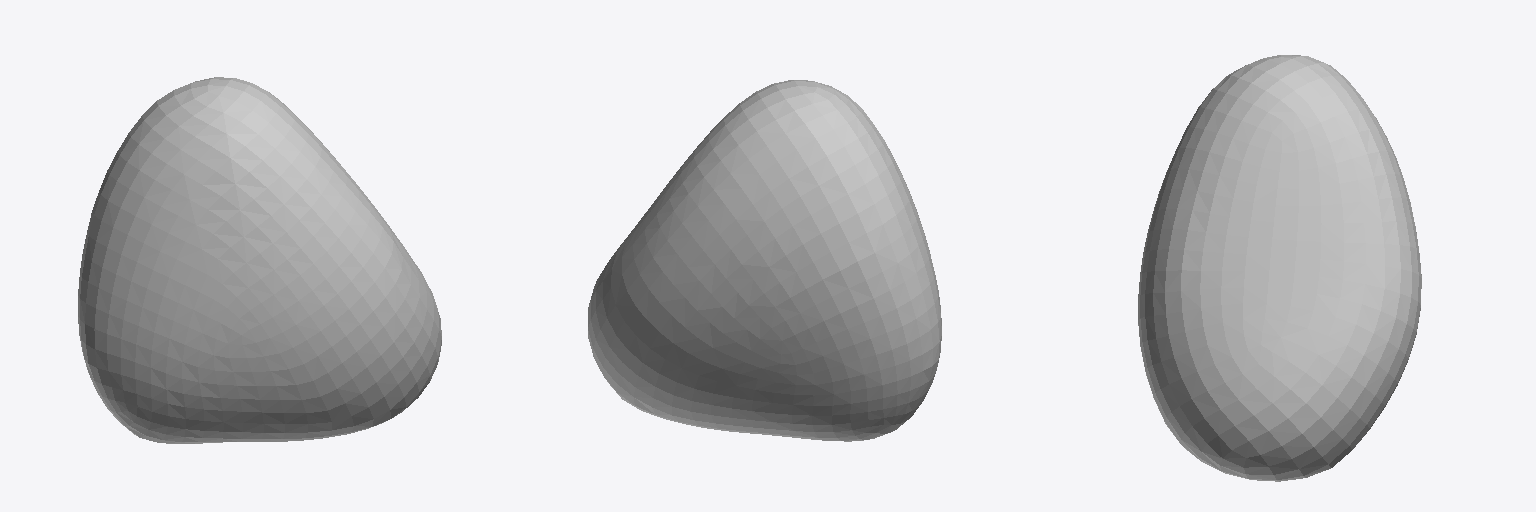
File: Rock-6.obj
3 renders of one model, left to right at view 1: azimuth 30°, elevation 25°; view 2: azimuth 150°, elevation 25°; view 3: azimuth 270°, elevation 25°, orthographic.
Visible parts, largest first — view 1: Group1; view 2: Group1; view 3: Group1.
Boxes of the visible parts, x1=… form: Group1: x1=78, y1=77, x2=441, y2=443; Group1: x1=588, y1=80, x2=941, y2=441; Group1: x1=1138, y1=55, x2=1421, y2=481.
Bounding box in the file's own units: 2.48 × 2.51 × 1.82.